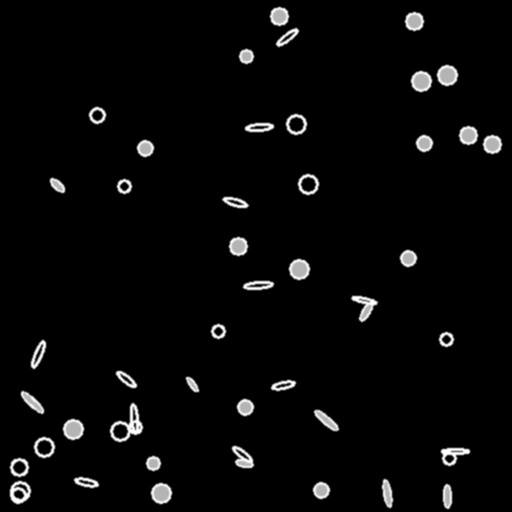pseudomonas: (19, 390, 45, 414), (313, 408, 339, 432), (30, 339, 46, 369), (275, 27, 299, 47), (115, 369, 137, 389), (231, 445, 253, 463), (222, 195, 247, 209), (358, 301, 374, 321), (382, 480, 392, 506), (351, 295, 377, 305), (49, 177, 65, 193), (243, 281, 273, 289), (130, 403, 138, 433), (185, 376, 199, 392), (272, 380, 294, 390), (75, 477, 97, 487), (246, 123, 272, 131), (443, 484, 451, 508), (236, 458, 252, 468), (442, 448, 468, 453)
synechocystis: (438, 66, 456, 84), (412, 72, 430, 90), (111, 422, 129, 440), (287, 115, 305, 133), (11, 482, 29, 500), (64, 420, 82, 438), (290, 260, 308, 278), (152, 484, 170, 502), (35, 438, 53, 456), (299, 175, 317, 193), (230, 238, 246, 254), (11, 459, 27, 475), (406, 13, 422, 29), (484, 136, 500, 152), (271, 8, 287, 24), (460, 127, 476, 143), (417, 136, 431, 150), (314, 483, 328, 497), (90, 108, 104, 122), (401, 251, 415, 265), (138, 141, 152, 155), (11, 488, 25, 502), (238, 400, 252, 414), (212, 325, 224, 337), (440, 333, 452, 345), (443, 452, 455, 464), (147, 457, 159, 469), (118, 180, 130, 192), (129, 421, 141, 433), (240, 50, 252, 62)
